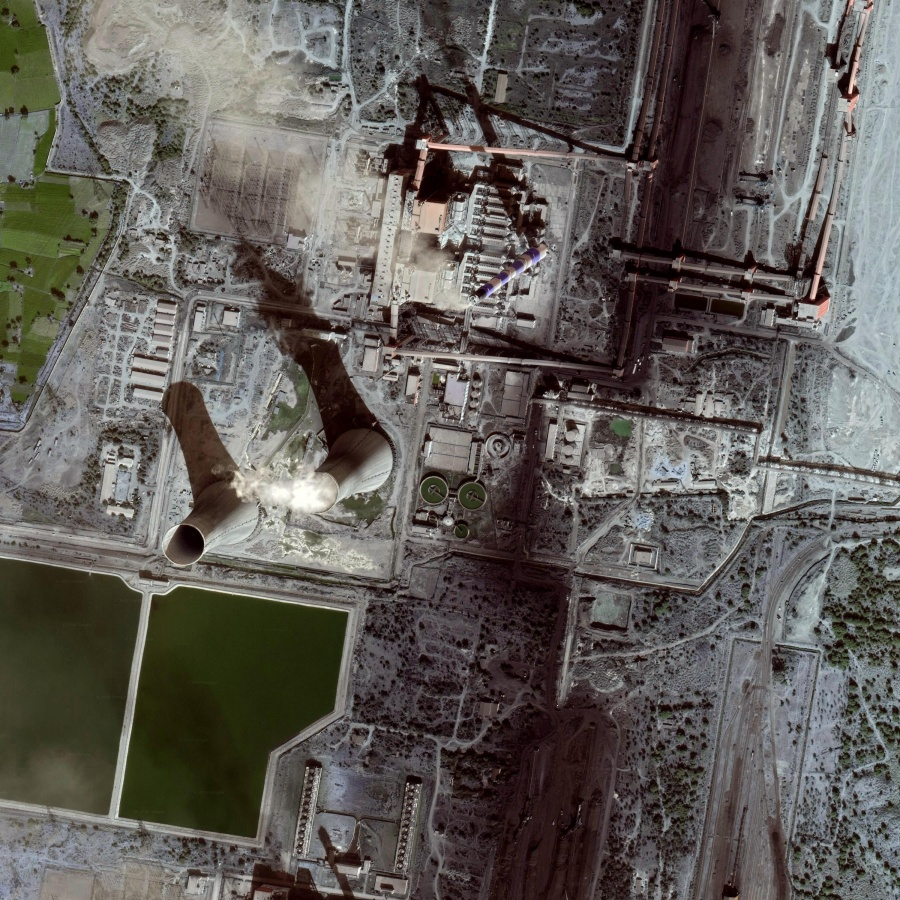PowerPlant: (148, 47, 811, 584)
